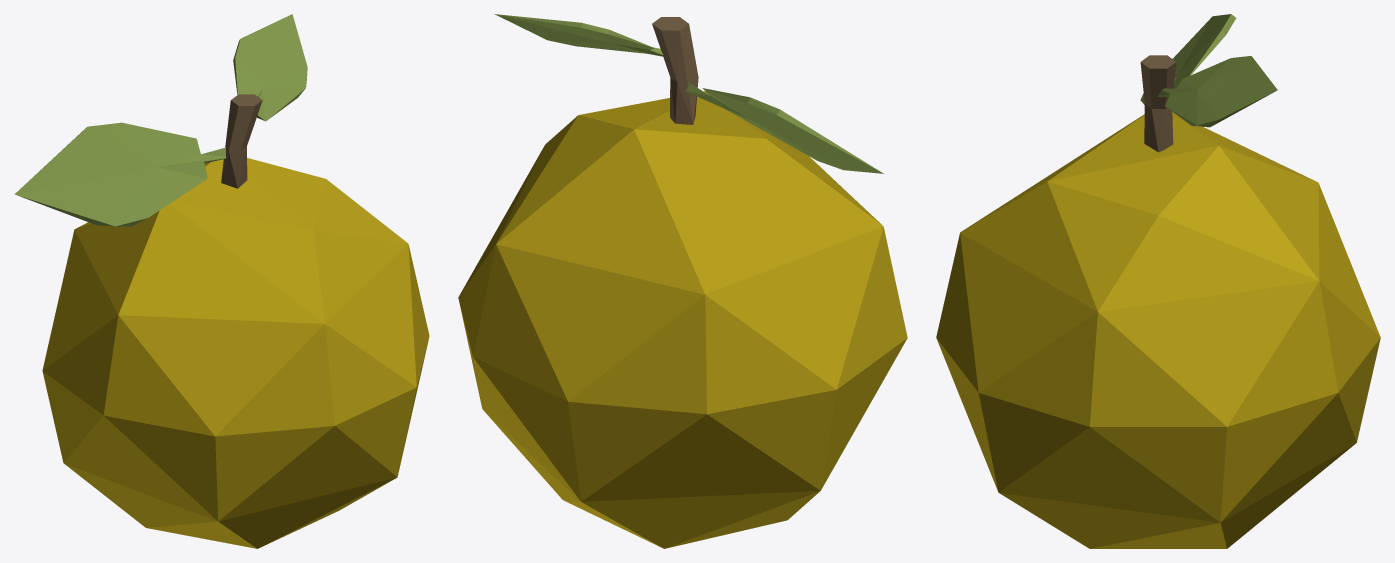
The model's file is Orange_02.fbx.
The picture shows the model from 3 angles, left to right: view 1: azimuth 30°, elevation 25°; view 2: azimuth 150°, elevation 25°; view 3: azimuth 270°, elevation 25°; orthographic projection. The views are drawn at different scales.
Parts seen in each view (by area): view 1: Orange_02; view 2: Orange_02; view 3: Orange_02.
Boxes of the visible parts, bbox=[...] form: Orange_02: bbox=[14, 14, 429, 548]; Orange_02: bbox=[458, 14, 907, 548]; Orange_02: bbox=[936, 14, 1380, 548].
Bounding box in the file's own units: 11.49 × 13.42 × 10.92.
